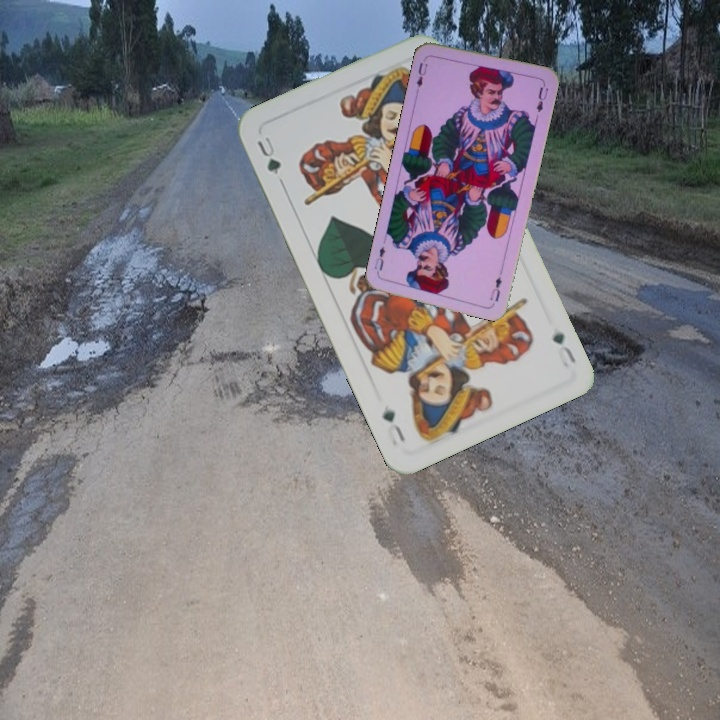EU: (412, 58, 430, 94), (486, 273, 505, 304)
GU: (252, 132, 284, 178), (548, 328, 579, 370)
